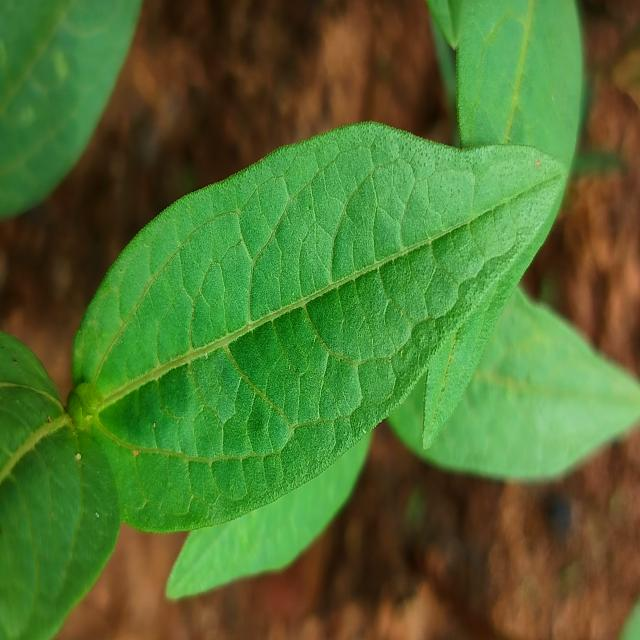Black gram_healthy: (69, 122, 567, 526)
